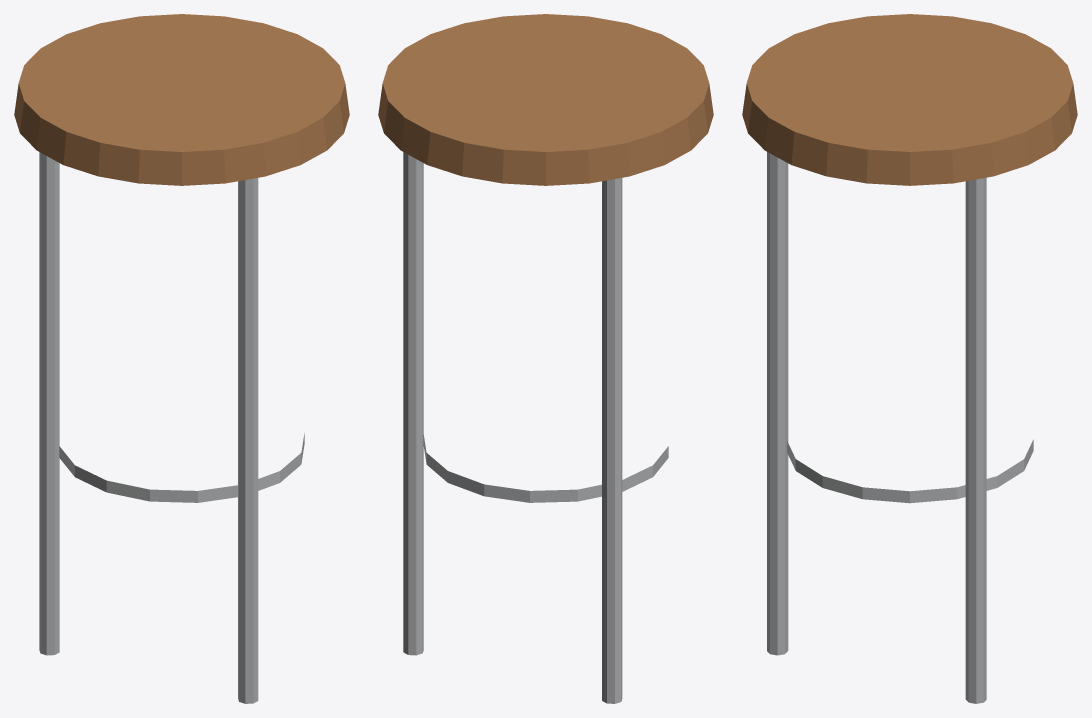
File: stool.glb
3 views of the same model, side by side, from view 1: azimuth 30°, elevation 25°; view 2: azimuth 150°, elevation 25°; view 3: azimuth 270°, elevation 25° (orthographic).
Parts seen in each view (by area): view 1: model; view 2: model; view 3: model.
Boxes of the visible parts, bbox=[...] form: model: bbox=[14, 14, 349, 703]; model: bbox=[378, 14, 713, 703]; model: bbox=[742, 14, 1077, 703].
Size of the model in its own units: 0.38 by 0.71 by 0.38.
